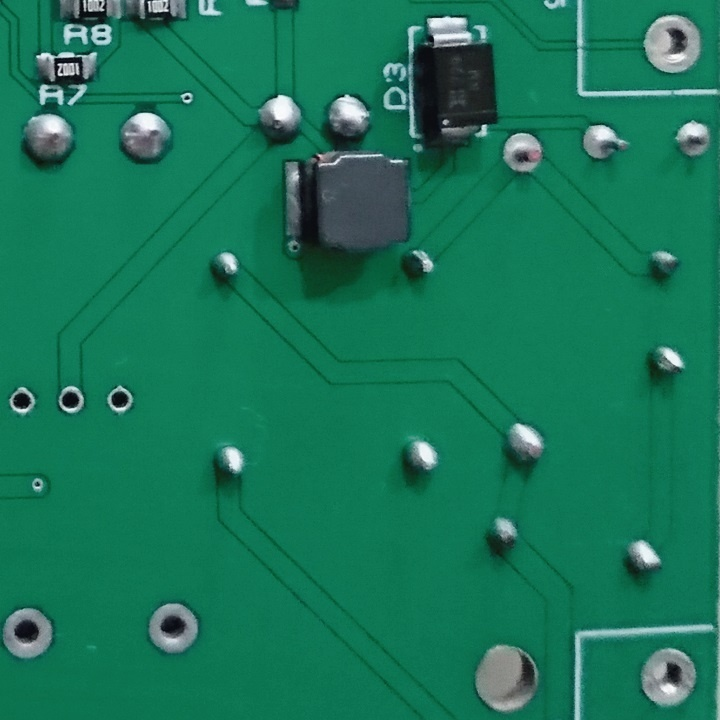F: (634, 643, 701, 712), (641, 10, 704, 77), (144, 599, 203, 661), (1, 604, 58, 663), (497, 128, 548, 179), (580, 120, 634, 165), (674, 117, 716, 161), (52, 384, 86, 420), (104, 385, 135, 420), (9, 386, 40, 420)
